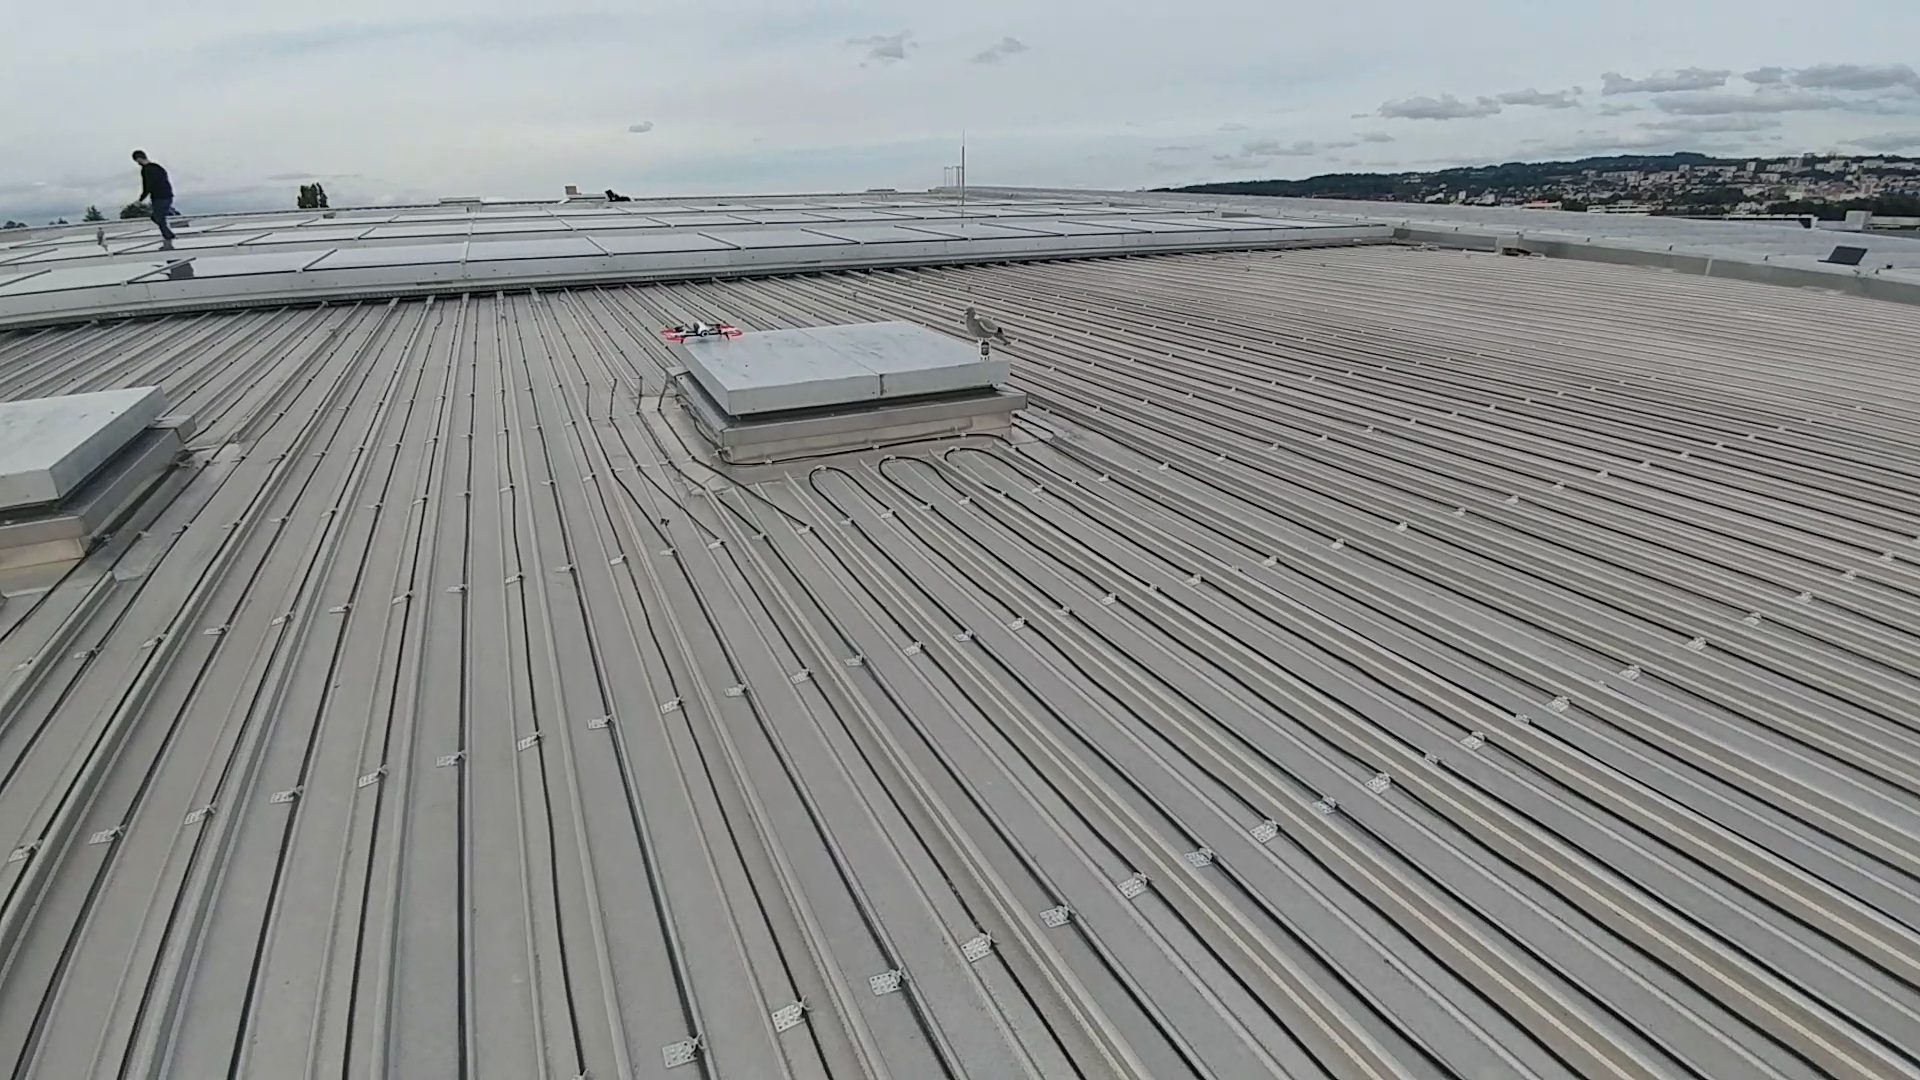Pigeon: (957, 305, 1014, 339)
